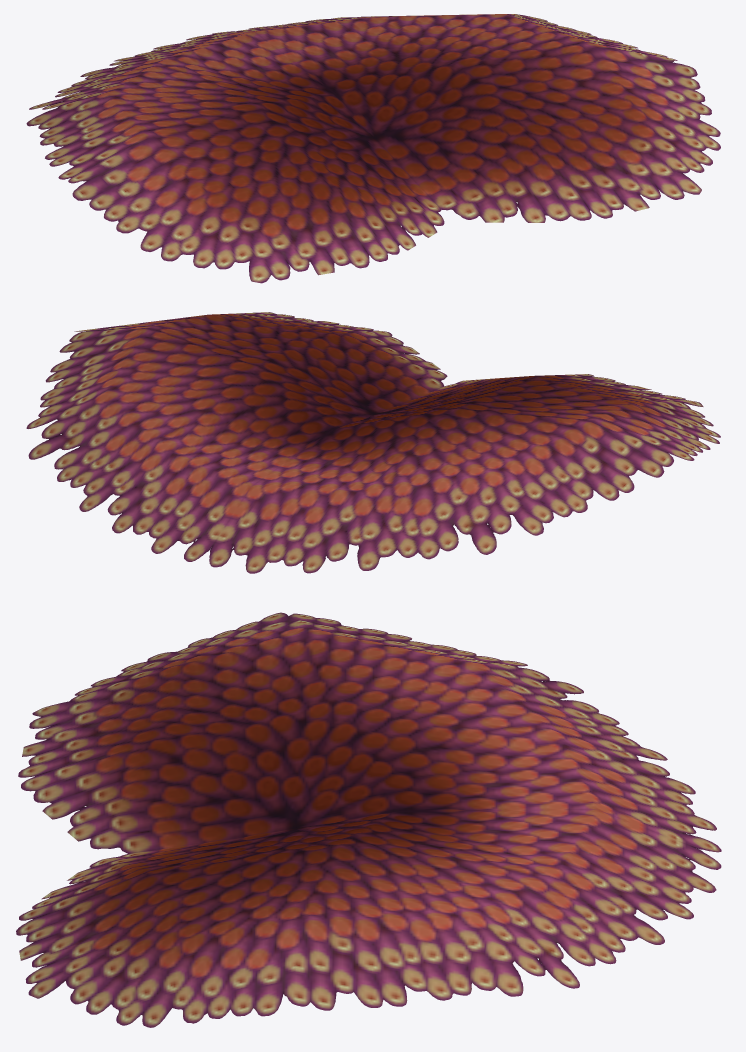
File: Coral_20.FBX
The picture shows the model from 3 angles, top to bottom: view 1: azimuth 30°, elevation 25°; view 2: azimuth 150°, elevation 25°; view 3: azimuth 270°, elevation 25°; orthographic projection. The views are drawn at different scales.
Parts seen in each view (by area): view 1: Coral_20; view 2: Coral_20; view 3: Coral_20.
Part boxes in pixels (left/top/right/bottom): Coral_20: left=26, top=14, right=720, bottom=283; Coral_20: left=26, top=312, right=720, bottom=573; Coral_20: left=16, top=612, right=721, bottom=1027.
Bounding box in the file's own units: 34.32 × 4.16 × 27.13.
